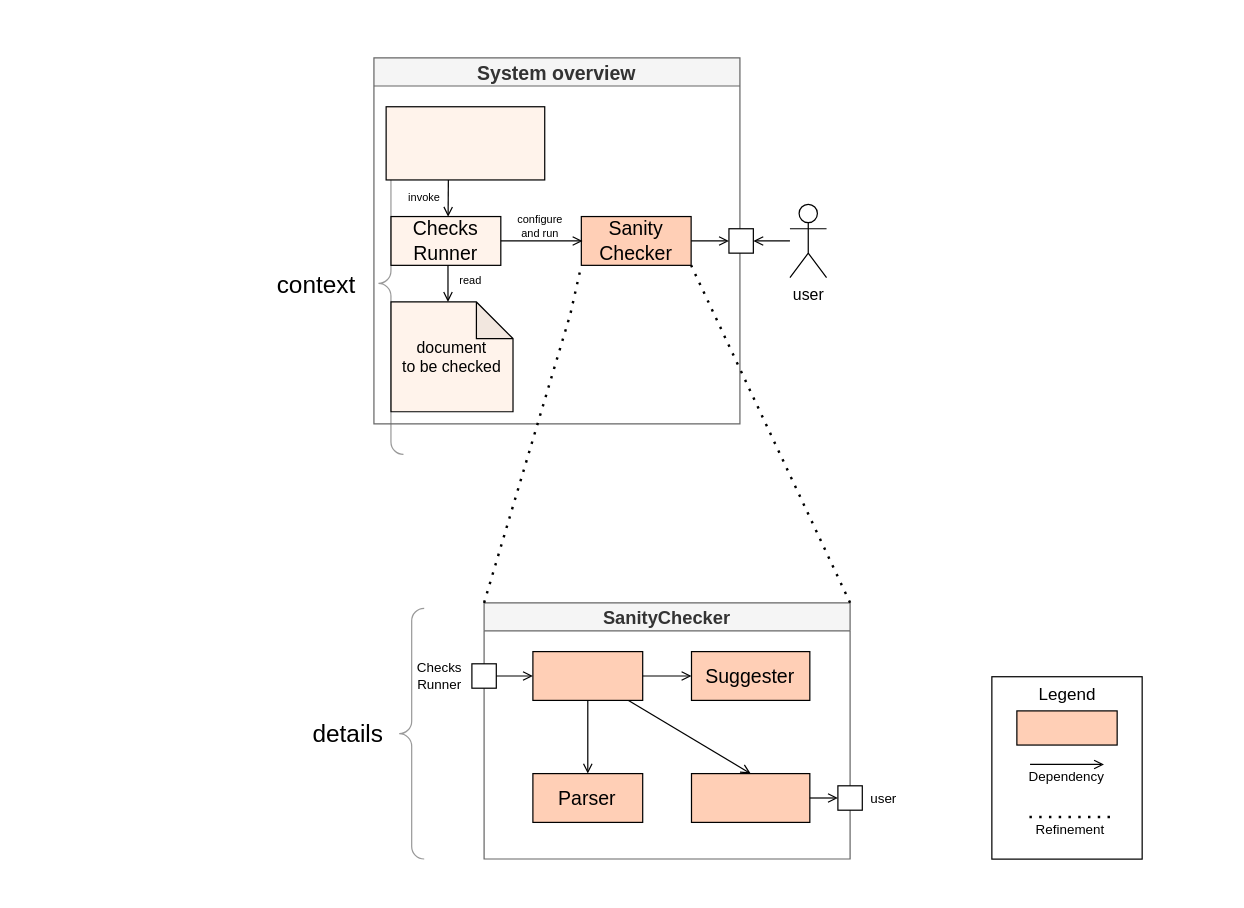
Some shapes in this 1244 by 908 pixel diagram are drawn without their labels. Here are the shapes that lost their labels. From the top down, the centre of each, then its label:
At [465,143]: "automatic build system (e.g. make, gradle)".
At [587,675]: "Checker".
At [1066,727]: "Component".
At [750,797]: "Reporter".
